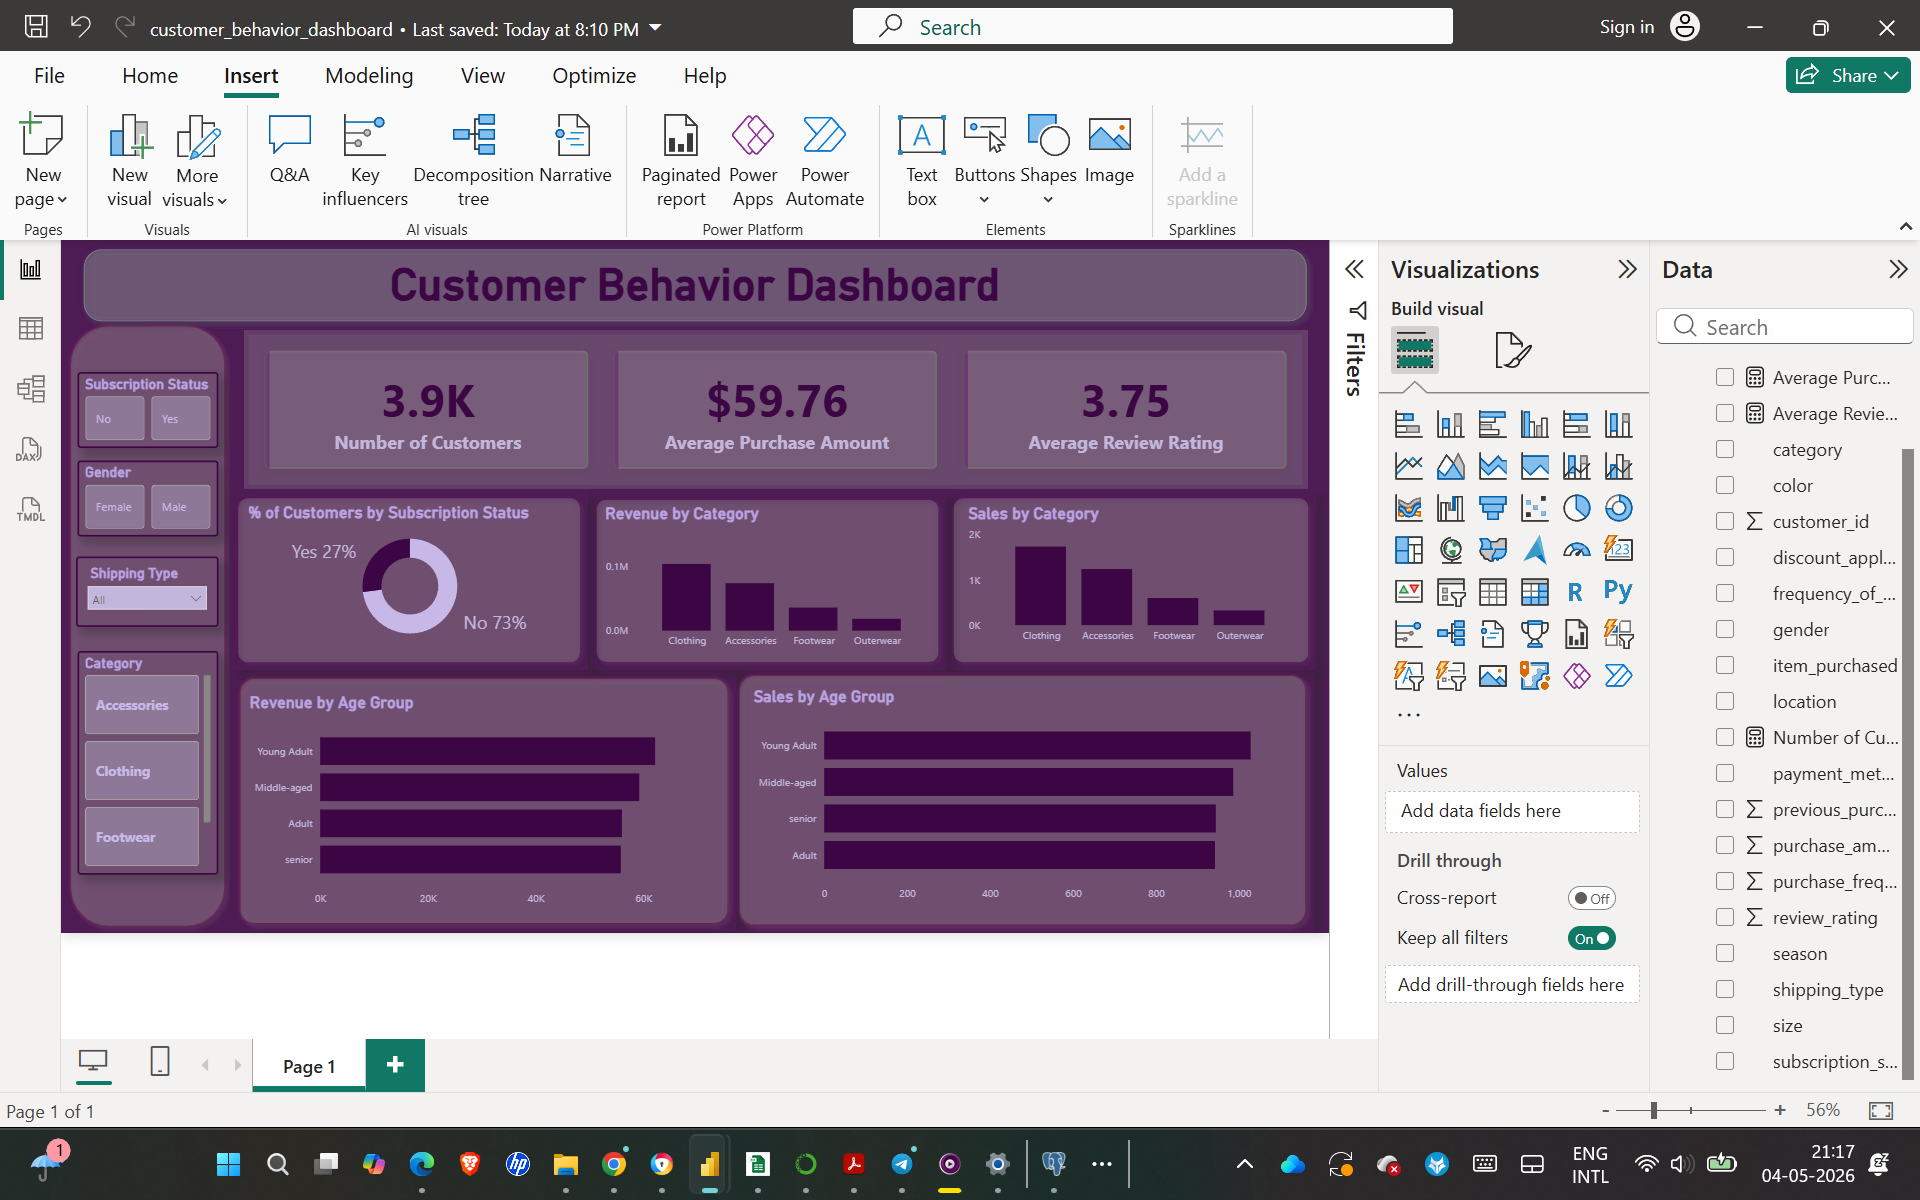

This screenshot's page, from the dashboard's own definition file:
{"tool":"powerbi","page":{"name":"Page 1","canvas":[1500,820],"ordinal":0},"visuals":[{"type":"cardVisual","fields":{"Data":["public customer.Number of Customers","public customer.Average Purchase Amount","public customer.Average Review Rating"]},"box":[216.7,107.2,1258.5,188.2],"z":0},{"type":"shape","box":[201.4,295.5,422.4,212.3],"z":1000},{"type":"donutChart","title":"% of Customers by Subscription Status","fields":{"Category":["public customer.subscription_status"],"Y":["CountNonNull(public customer.customer_id)"]},"box":[216.7,310.8,391.8,175.1],"z":2000},{"type":"shape","box":[623.8,297.7,422.4,210.1],"z":3000},{"type":"shape","box":[1046.2,295.5,437.7,212.3],"z":4000},{"type":"clusteredColumnChart","title":"Revenue by Category","fields":{"Y":["Sum(public customer.purchase_amount)"],"Category":["public customer.category"]},"box":[639.1,313,391.8,179.5],"z":5000},{"type":"clusteredColumnChart","title":"Sales by Category","fields":{"Y":["CountNonNull(public customer.customer_id)"],"Category":["public customer.category"]},"box":[1068.1,313,394,172.9],"z":6000},{"type":"shape","box":[2.2,91.9,201.4,728.8],"z":7000},{"type":"advancedSlicerVisual","title":"Category","fields":{"Values":["public customer.category"]},"box":[19.7,485.9,166.3,264.8],"z":9000},{"type":"shape","box":[197,512.2,595.3,308.6],"z":10000},{"type":"clusteredBarChart","title":"Revenue by Age Group","fields":{"Category":["public customer.age_group"],"Y":["Sum(public customer.purchase_amount)"]},"box":[218.9,536.2,549.4,260.5],"z":11000},{"type":"shape","box":[794.5,507.8,689.5,313],"z":12000},{"type":"clusteredBarChart","title":"Sales by Age Group","fields":{"Category":["public customer.age_group"],"Y":["CountNonNull(public customer.customer_id)"]},"box":[814.2,529.7,647.9,262.6],"z":13000},{"type":"shape","box":[15.3,0,1468.6,107.2],"z":14000},{"type":"textbox","box":[39.4,15.3,1422.7,76.6],"z":15000},{"type":"slicer","fields":{"Values":["public customer.shipping_type"]},"box":[17.5,374.3,168.5,83.2],"z":16000},{"type":"advancedSlicerVisual","title":"Gender","fields":{"Values":["public customer.gender"]},"box":[19.7,260.5,166.3,89.7],"z":17000},{"type":"advancedSlicerVisual","title":"Subscription Status","fields":{"Values":["public customer.subscription_status"]},"box":[19.7,155.4,166.3,89.7],"z":18000}]}

Visuals, with their boxes on the page's 1500x820 design canvas (x1, y1, x2, y2). These are canvas units, not pixel positions in the 1920x1200 screenshot, which may show the page scaled, cropped or inside an application window:
cardVisual - public customer.Number of Customers x public customer.Average Purchase Amount: Rect(217, 107, 1475, 295)
shape: Rect(201, 296, 624, 508)
"% of Customers by Subscription Status" donutChart: Rect(217, 311, 608, 486)
shape: Rect(624, 298, 1046, 508)
shape: Rect(1046, 296, 1484, 508)
"Revenue by Category" clusteredColumnChart: Rect(639, 313, 1031, 492)
"Sales by Category" clusteredColumnChart: Rect(1068, 313, 1462, 486)
shape: Rect(2, 92, 204, 821)
"Category" advancedSlicerVisual: Rect(20, 486, 186, 751)
shape: Rect(197, 512, 792, 821)
"Revenue by Age Group" clusteredBarChart: Rect(219, 536, 768, 797)
shape: Rect(794, 508, 1484, 821)
"Sales by Age Group" clusteredBarChart: Rect(814, 530, 1462, 792)
shape: Rect(15, 0, 1484, 107)
textbox: Rect(39, 15, 1462, 92)
slicer - public customer.shipping_type: Rect(18, 374, 186, 458)
"Gender" advancedSlicerVisual: Rect(20, 260, 186, 350)
"Subscription Status" advancedSlicerVisual: Rect(20, 155, 186, 245)
